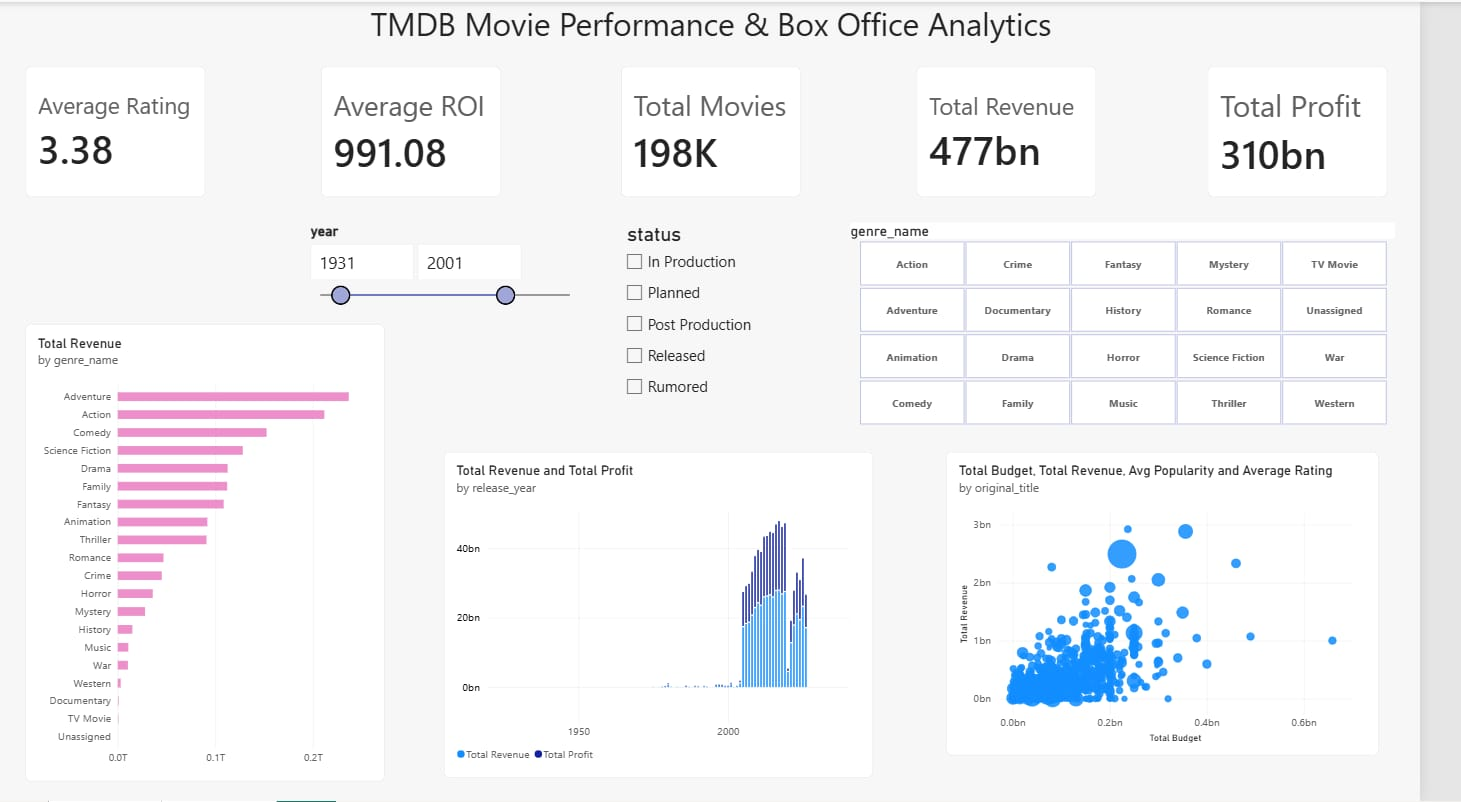

The page's visual inventory and layout, read from the dashboard file:
{"tool":"powerbi","page":{"name":"Page 1","canvas":[1920,1080],"ordinal":0},"visuals":[{"type":"textbox","box":[480.4,0,960.8,102.6],"z":0},{"type":"cardVisual","fields":{"Data":["_Measures.Total Profit"]},"box":[1633.1,86.3,243.3,176.4],"z":1000},{"type":"cardVisual","fields":{"Data":["_Measures.Average ROI"]},"box":[433.8,86.3,243.3,176.4],"z":2000},{"type":"cardVisual","fields":{"Data":["_Measures.Total Revenue"]},"box":[1237.9,86.3,243.3,176.4],"z":3000},{"type":"cardVisual","fields":{"Data":["_Measures.Total Movies"]},"box":[840.4,86.3,243.3,176.4],"z":4000},{"type":"cardVisual","fields":{"Data":["_Measures.Average Rating"]},"box":[34.1,86.3,243.3,176.4],"z":5000},{"type":"slicer","fields":{"Values":["dim_movies.status"]},"box":[839.4,298.1,255.5,275.8],"z":6000},{"type":"slicer","fields":{"Values":["dim_date.year"]},"box":[411.6,298.1,377,174.9],"z":7000},{"type":"slicer","fields":{"Values":["dim_genre.genre_name"]},"box":[1142.5,297.5,751.8,274.8],"z":8000},{"type":"barChart","fields":{"Category":["dim_genre.genre_name"],"Y":["_Measures.Total Revenue"]},"box":[35,435,485,617.5],"z":9000},{"type":"lineStackedColumnComboChart","fields":{"Category":["dim_movies.release_year"],"Y":["_Measures.Total Revenue","_Measures.Total Profit"]},"box":[600,607.5,580,440],"z":9001},{"type":"scatterChart","fields":{"Category":["dim_movies.original_title"],"Size":["_Measures.Avg Popularity"],"X":["_Measures.budget"],"Y":["_Measures.Total Revenue"]},"box":[1280,608,584,410],"z":9002}]}

Visuals, with their boxes in screenshot pixels (x1, y1, x2, y2), scaled from the page's 1920x1080 canvas onto the 1461x802 screenshot:
textbox: select_region(366, 0, 1097, 76)
cardVisual - _Measures.Total Profit: select_region(1243, 64, 1428, 195)
cardVisual - _Measures.Average ROI: select_region(330, 64, 515, 195)
cardVisual - _Measures.Total Revenue: select_region(942, 64, 1127, 195)
cardVisual - _Measures.Total Movies: select_region(639, 64, 825, 195)
cardVisual - _Measures.Average Rating: select_region(26, 64, 211, 195)
slicer - dim_movies.status: select_region(639, 221, 833, 426)
slicer - dim_date.year: select_region(313, 221, 600, 351)
slicer - dim_genre.genre_name: select_region(869, 221, 1441, 425)
barChart - dim_genre.genre_name x _Measures.Total Revenue: select_region(27, 323, 396, 782)
lineStackedColumnComboChart - dim_movies.release_year x _Measures.Total Revenue: select_region(457, 451, 898, 778)
scatterChart - dim_movies.original_title x _Measures.Avg Popularity: select_region(974, 451, 1418, 756)
